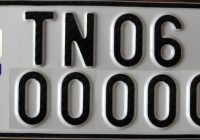number_plate: (1, 1, 189, 140)
